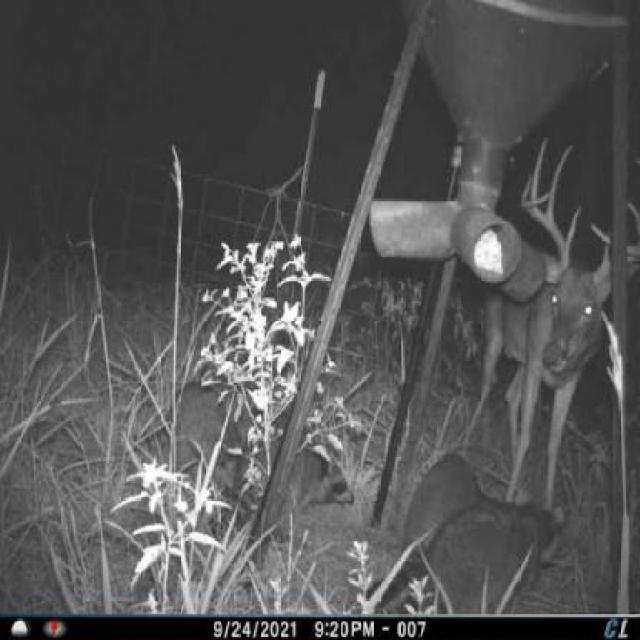Deer: (466, 130, 639, 539)
